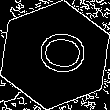O_W: (25, 30, 85, 80)
